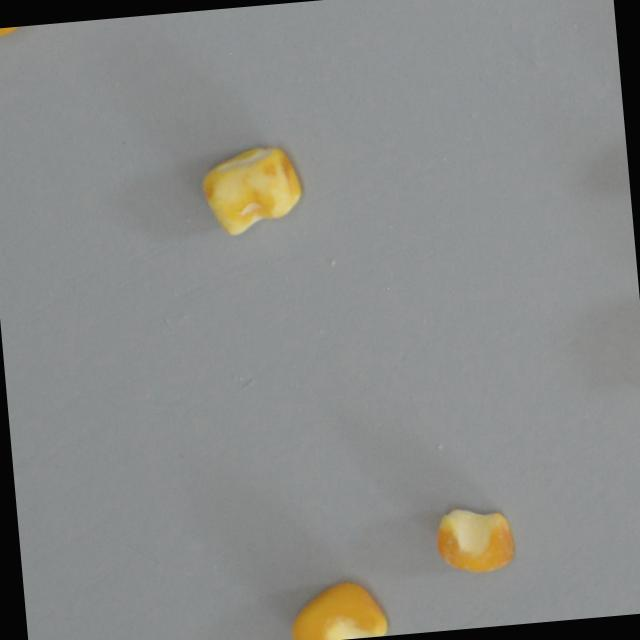no_canjicado: (196, 139, 305, 238), (283, 576, 387, 640)
pelicula: (430, 503, 514, 576)
